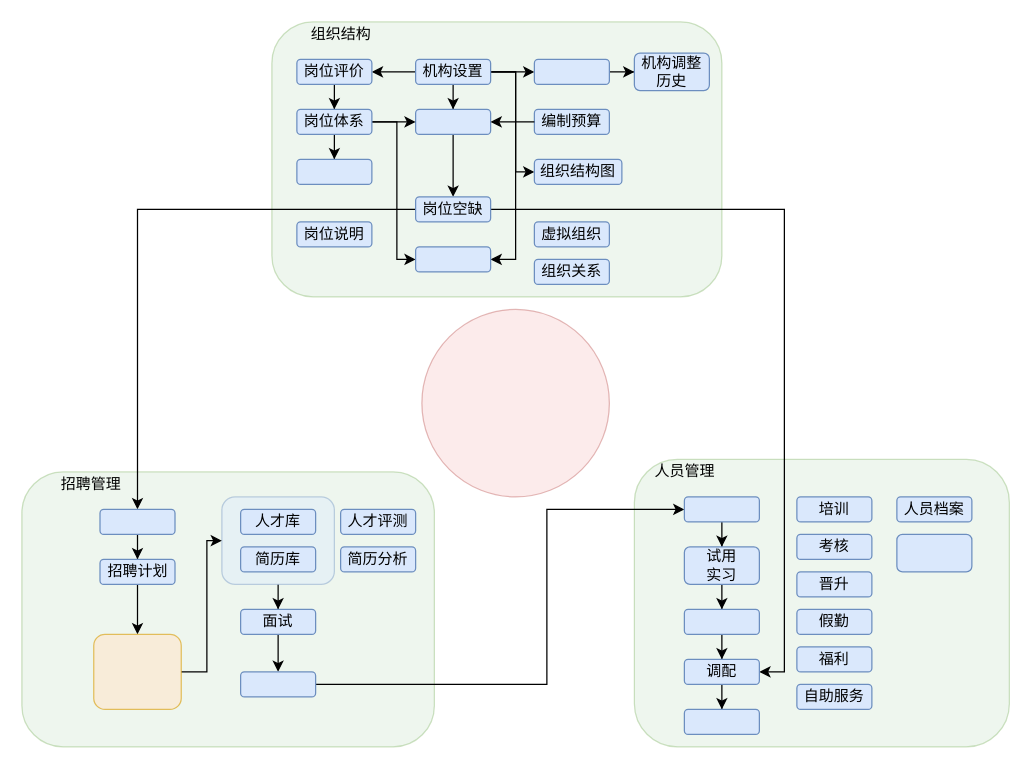
Some shapes in this 1031 by 769 pixel diagram are drawn without their labels. Each missing label, with the box of its shape:
人员变动历史: (896, 533, 972, 572)
任职资格: (296, 158, 372, 184)
入职: (683, 496, 759, 522)
员工录用: (239, 671, 316, 697)
招聘网站 公众号 其他渠道: (92, 633, 181, 709)
招聘需求: (99, 508, 175, 534)
数据仓库 决策分析: (421, 308, 609, 497)
机构调整: (533, 58, 609, 84)
汇报关系: (414, 246, 491, 272)
离职: (683, 708, 759, 734)
编制管理: (414, 108, 491, 134)
转正: (683, 608, 759, 634)
